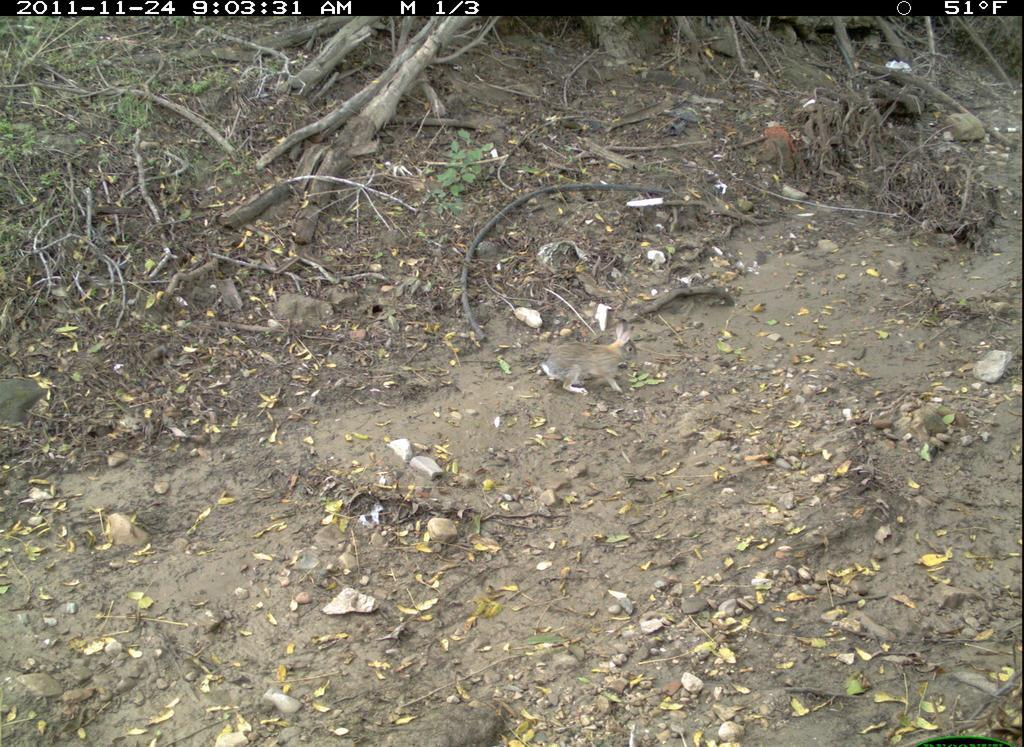rabbit: (536, 313, 652, 406)
